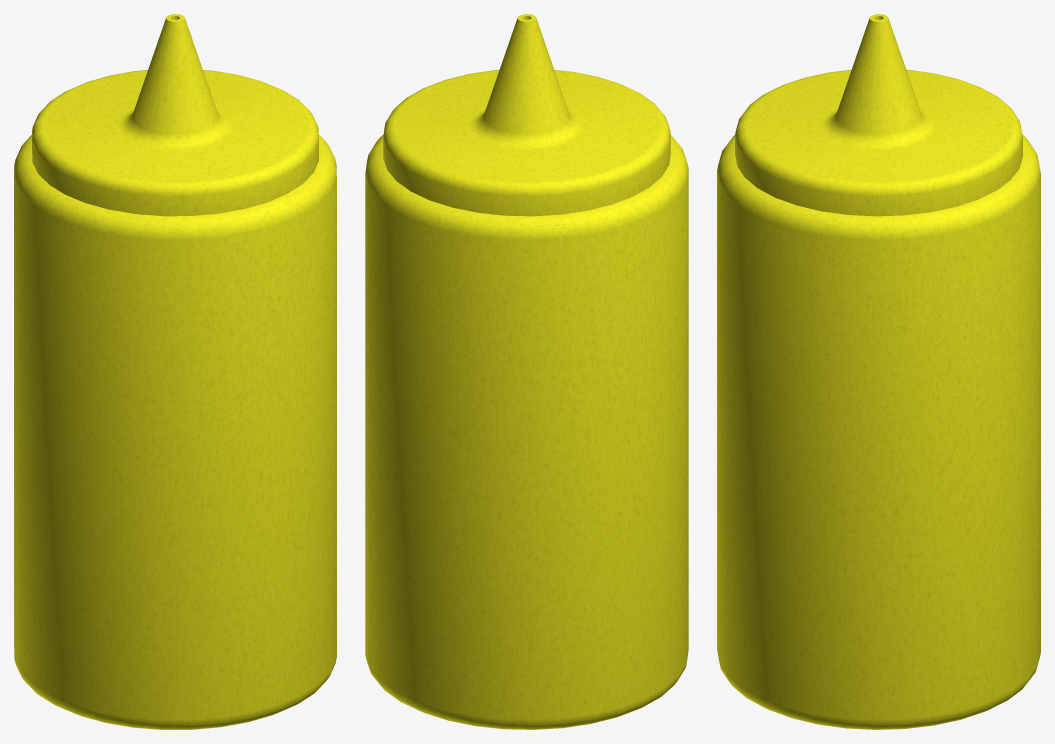
Rendered from KitchenCondimentBottle.fbx.
The picture shows the model from 3 angles, left to right: view 1: azimuth 30°, elevation 25°; view 2: azimuth 150°, elevation 25°; view 3: azimuth 270°, elevation 25°; orthographic projection.
Visible parts, largest first — view 1: KitchenCondimentBottle_Baked; view 2: KitchenCondimentBottle_Baked; view 3: KitchenCondimentBottle_Baked.
Part boxes in pixels (<box>): KitchenCondimentBottle_Baked: <box>14,14,336,729</box>; KitchenCondimentBottle_Baked: <box>365,14,688,729</box>; KitchenCondimentBottle_Baked: <box>717,14,1040,729</box>.
Bounding box in the file's own units: 7.19 × 15.92 × 7.19.
1 material, 1 textured.
